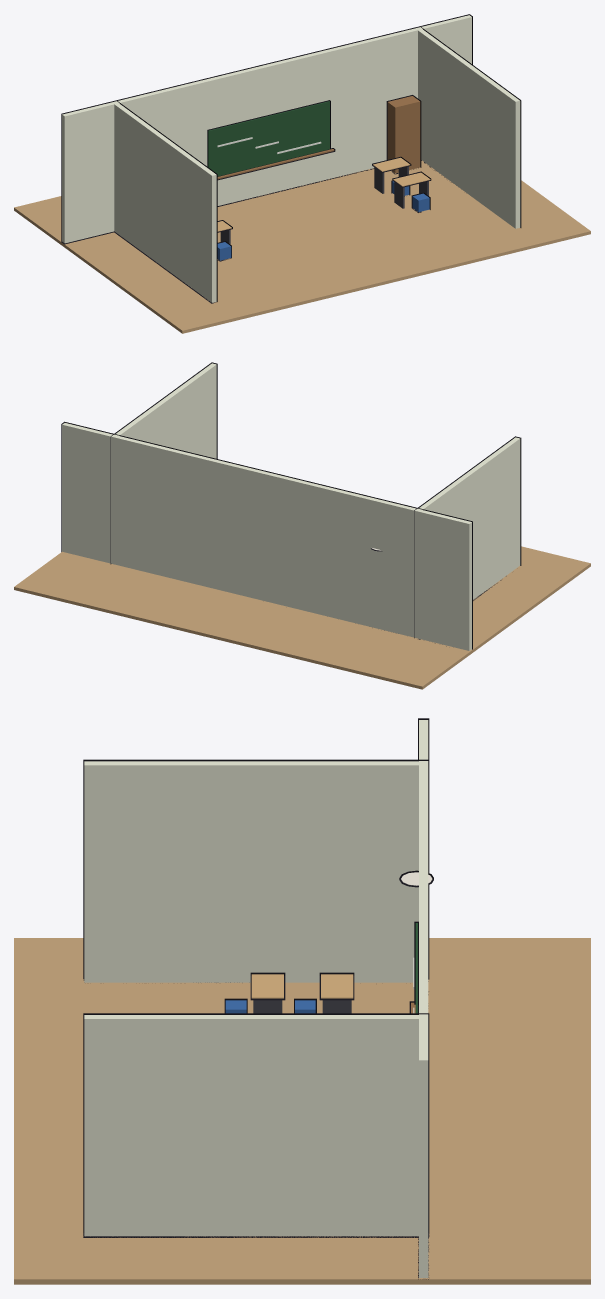
File: cut-classroom.glb
3 views of the same model, one above another, from view 1: azimuth 30°, elevation 25°; view 2: azimuth 150°, elevation 25°; view 3: azimuth 270°, elevation 25° (orthographic). The views are drawn at different scales.
Parts seen in each view (by area): view 1: Cube.034, Cube.035, Cube.036, Cube.037, Cube.038, Cube.059, Cube.039; view 2: Cube.035, Cube.034, Cube.036, Cube.037; view 3: Cube.034, Cube.037, Cube.036, Cube.035, Cube.043, Cube.047.
Boxes of the visible parts, <box> form: Cube.034: <box>14,160,590,333</box>; Cube.035: <box>61,14,472,244</box>; Cube.036: <box>114,100,217,303</box>; Cube.037: <box>418,26,521,228</box>; Cube.038: <box>207,100,330,176</box>; Cube.059: <box>386,95,421,174</box>; Cube.039: <box>217,148,335,180</box>; Cube.035: <box>61,421,472,650</box>; Cube.034: <box>14,546,590,689</box>; Cube.036: <box>414,436,521,639</box>; Cube.037: <box>110,362,217,564</box>; Cube.034: <box>14,938,590,1284</box>; Cube.037: <box>83,1013,429,1237</box>; Cube.036: <box>83,759,429,982</box>; Cube.035: <box>418,718,429,1279</box>; Cube.043: <box>250,972,285,1000</box>; Cube.047: <box>319,972,354,1000</box>.
Size of the model in its own units: 14 by 4.3 by 10.
